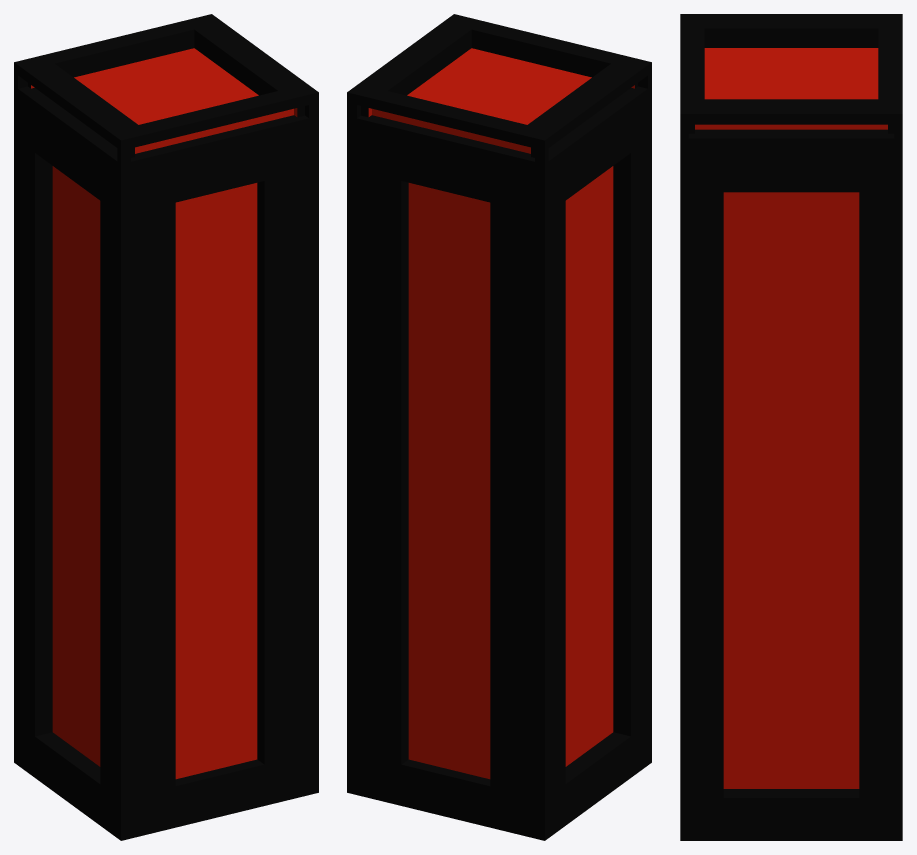
3 views of the same model, side by side, from view 1: azimuth 30°, elevation 25°; view 2: azimuth 150°, elevation 25°; view 3: azimuth 270°, elevation 25° (orthographic). The views are drawn at different scales.
Visible parts, largest first — view 1: Box009; view 2: Box009; view 3: Box009.
Boxes of the visible parts, x1,y1,x2,y2 form: Box009: (14,14,318,840); Box009: (347,14,651,840); Box009: (680,14,902,840).
Bounding box in the file's own units: 60.97 × 206 × 57.16.
